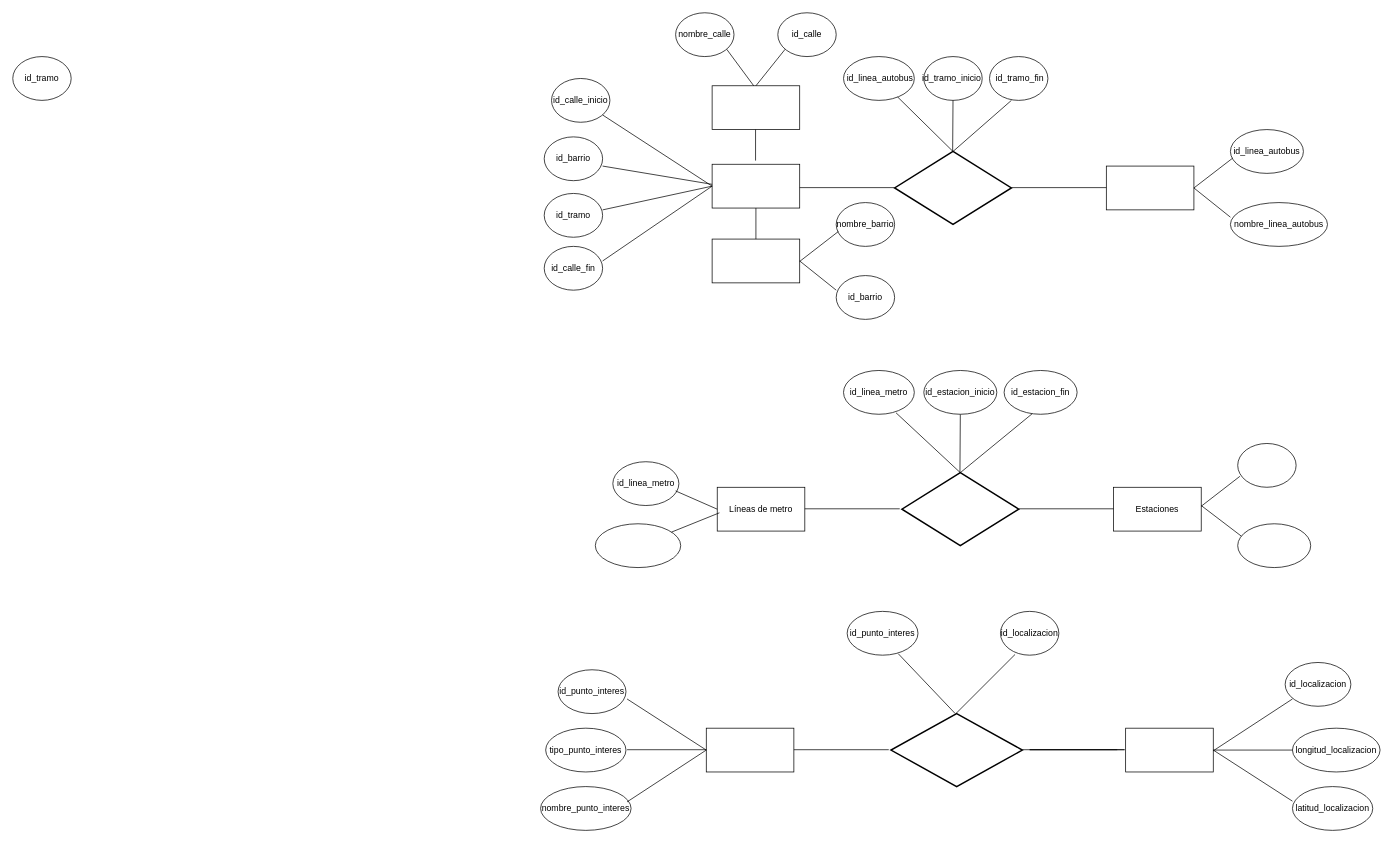
Some shapes in this 1393 by 843 pixel diagram are drawn without their labels. The centre of each missing label's shape, as x and y in pixels:
"Barrios" goes at (x=755, y=260).
"Calles" goes at (x=755, y=107).
"id_estacion" goes at (x=1266, y=465).
"lineas_autobuses_tramos" goes at (x=953, y=187).
"lineas_metro_estaciones" goes at (x=960, y=509).
"Localizaciones" goes at (x=1169, y=749).
"Líneas de autobuses" goes at (x=1150, y=187).
"nombre_estacion" goes at (x=1274, y=545).
"nombre_linea_metro" goes at (x=638, y=545).
"Puntos de Interés" goes at (x=750, y=749).
"puntos_interes_localizaciones" goes at (x=956, y=749).
"Tramos" goes at (x=755, y=186).
